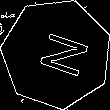N_W: (26, 27, 87, 81)
